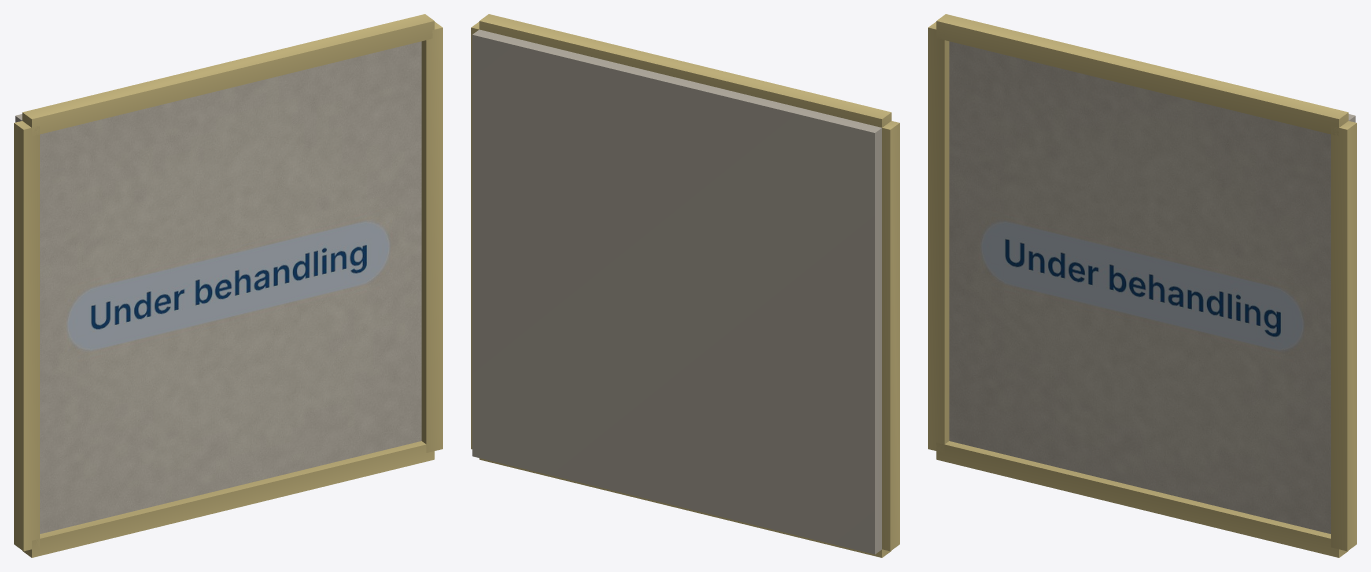
File: gallery_badge.glb
3 renders of one model, left to right at view 1: azimuth 30°, elevation 25°; view 2: azimuth 150°, elevation 25°; view 3: azimuth 330°, elevation 25°, orthographic.
Parts seen in each view (by area): view 1: plate; view 2: plate; view 3: plate.
Boxes of the visible parts, <box> form: plate: <box>14,14,442,557</box>; plate: <box>471,14,899,557</box>; plate: <box>928,14,1356,557</box>.
Bounding box in the file's own units: 0.51 × 0.51 × 0.035.
2 materials, 1 textured.
